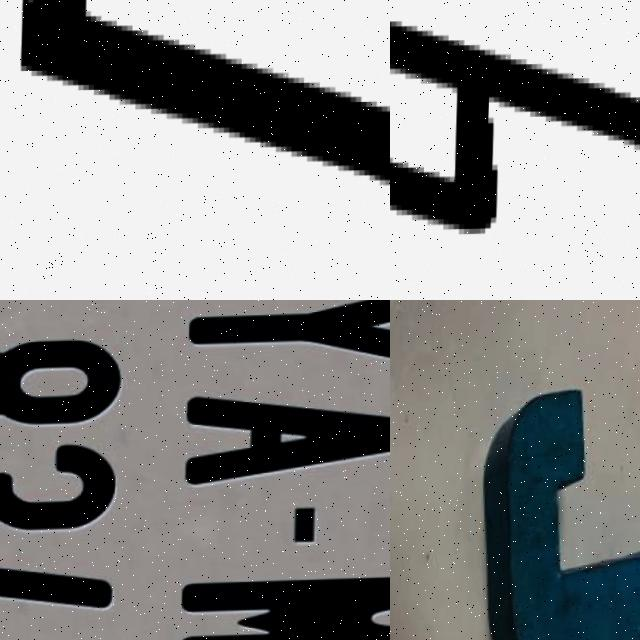3: (0, 439, 120, 533)
4: (0, 549, 119, 640)
8: (0, 333, 123, 431)
A: (184, 388, 390, 485)
B: (390, 23, 640, 235)
J: (479, 386, 640, 640)
M: (185, 575, 390, 640)
U: (7, 0, 390, 243)
Y: (182, 300, 390, 378)
